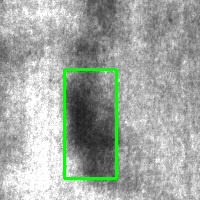patches: (64, 69, 116, 178)
